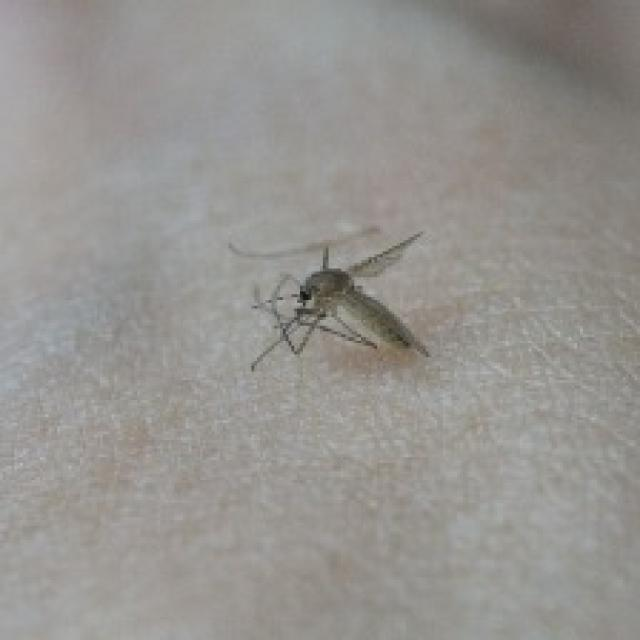culex: (226, 223, 431, 371)
